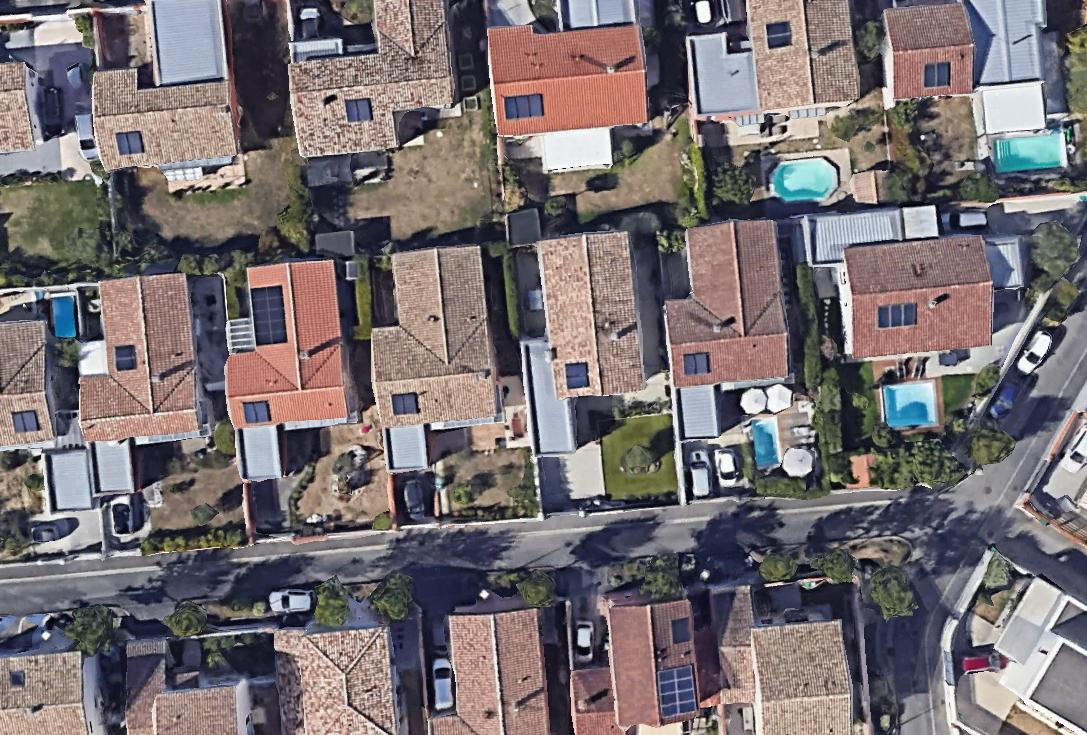maison: (281, 0, 457, 158), (548, 579, 715, 735), (361, 244, 501, 427), (657, 216, 793, 388), (219, 260, 357, 427), (72, 272, 206, 439), (710, 586, 853, 734), (689, 0, 861, 117), (838, 236, 997, 359), (535, 228, 647, 402), (486, 18, 648, 134), (977, 577, 1087, 735), (89, 59, 238, 170), (430, 610, 547, 734), (274, 627, 405, 735), (126, 641, 251, 734), (880, 2, 976, 98), (0, 650, 105, 734), (0, 321, 54, 446), (0, 62, 44, 153)
